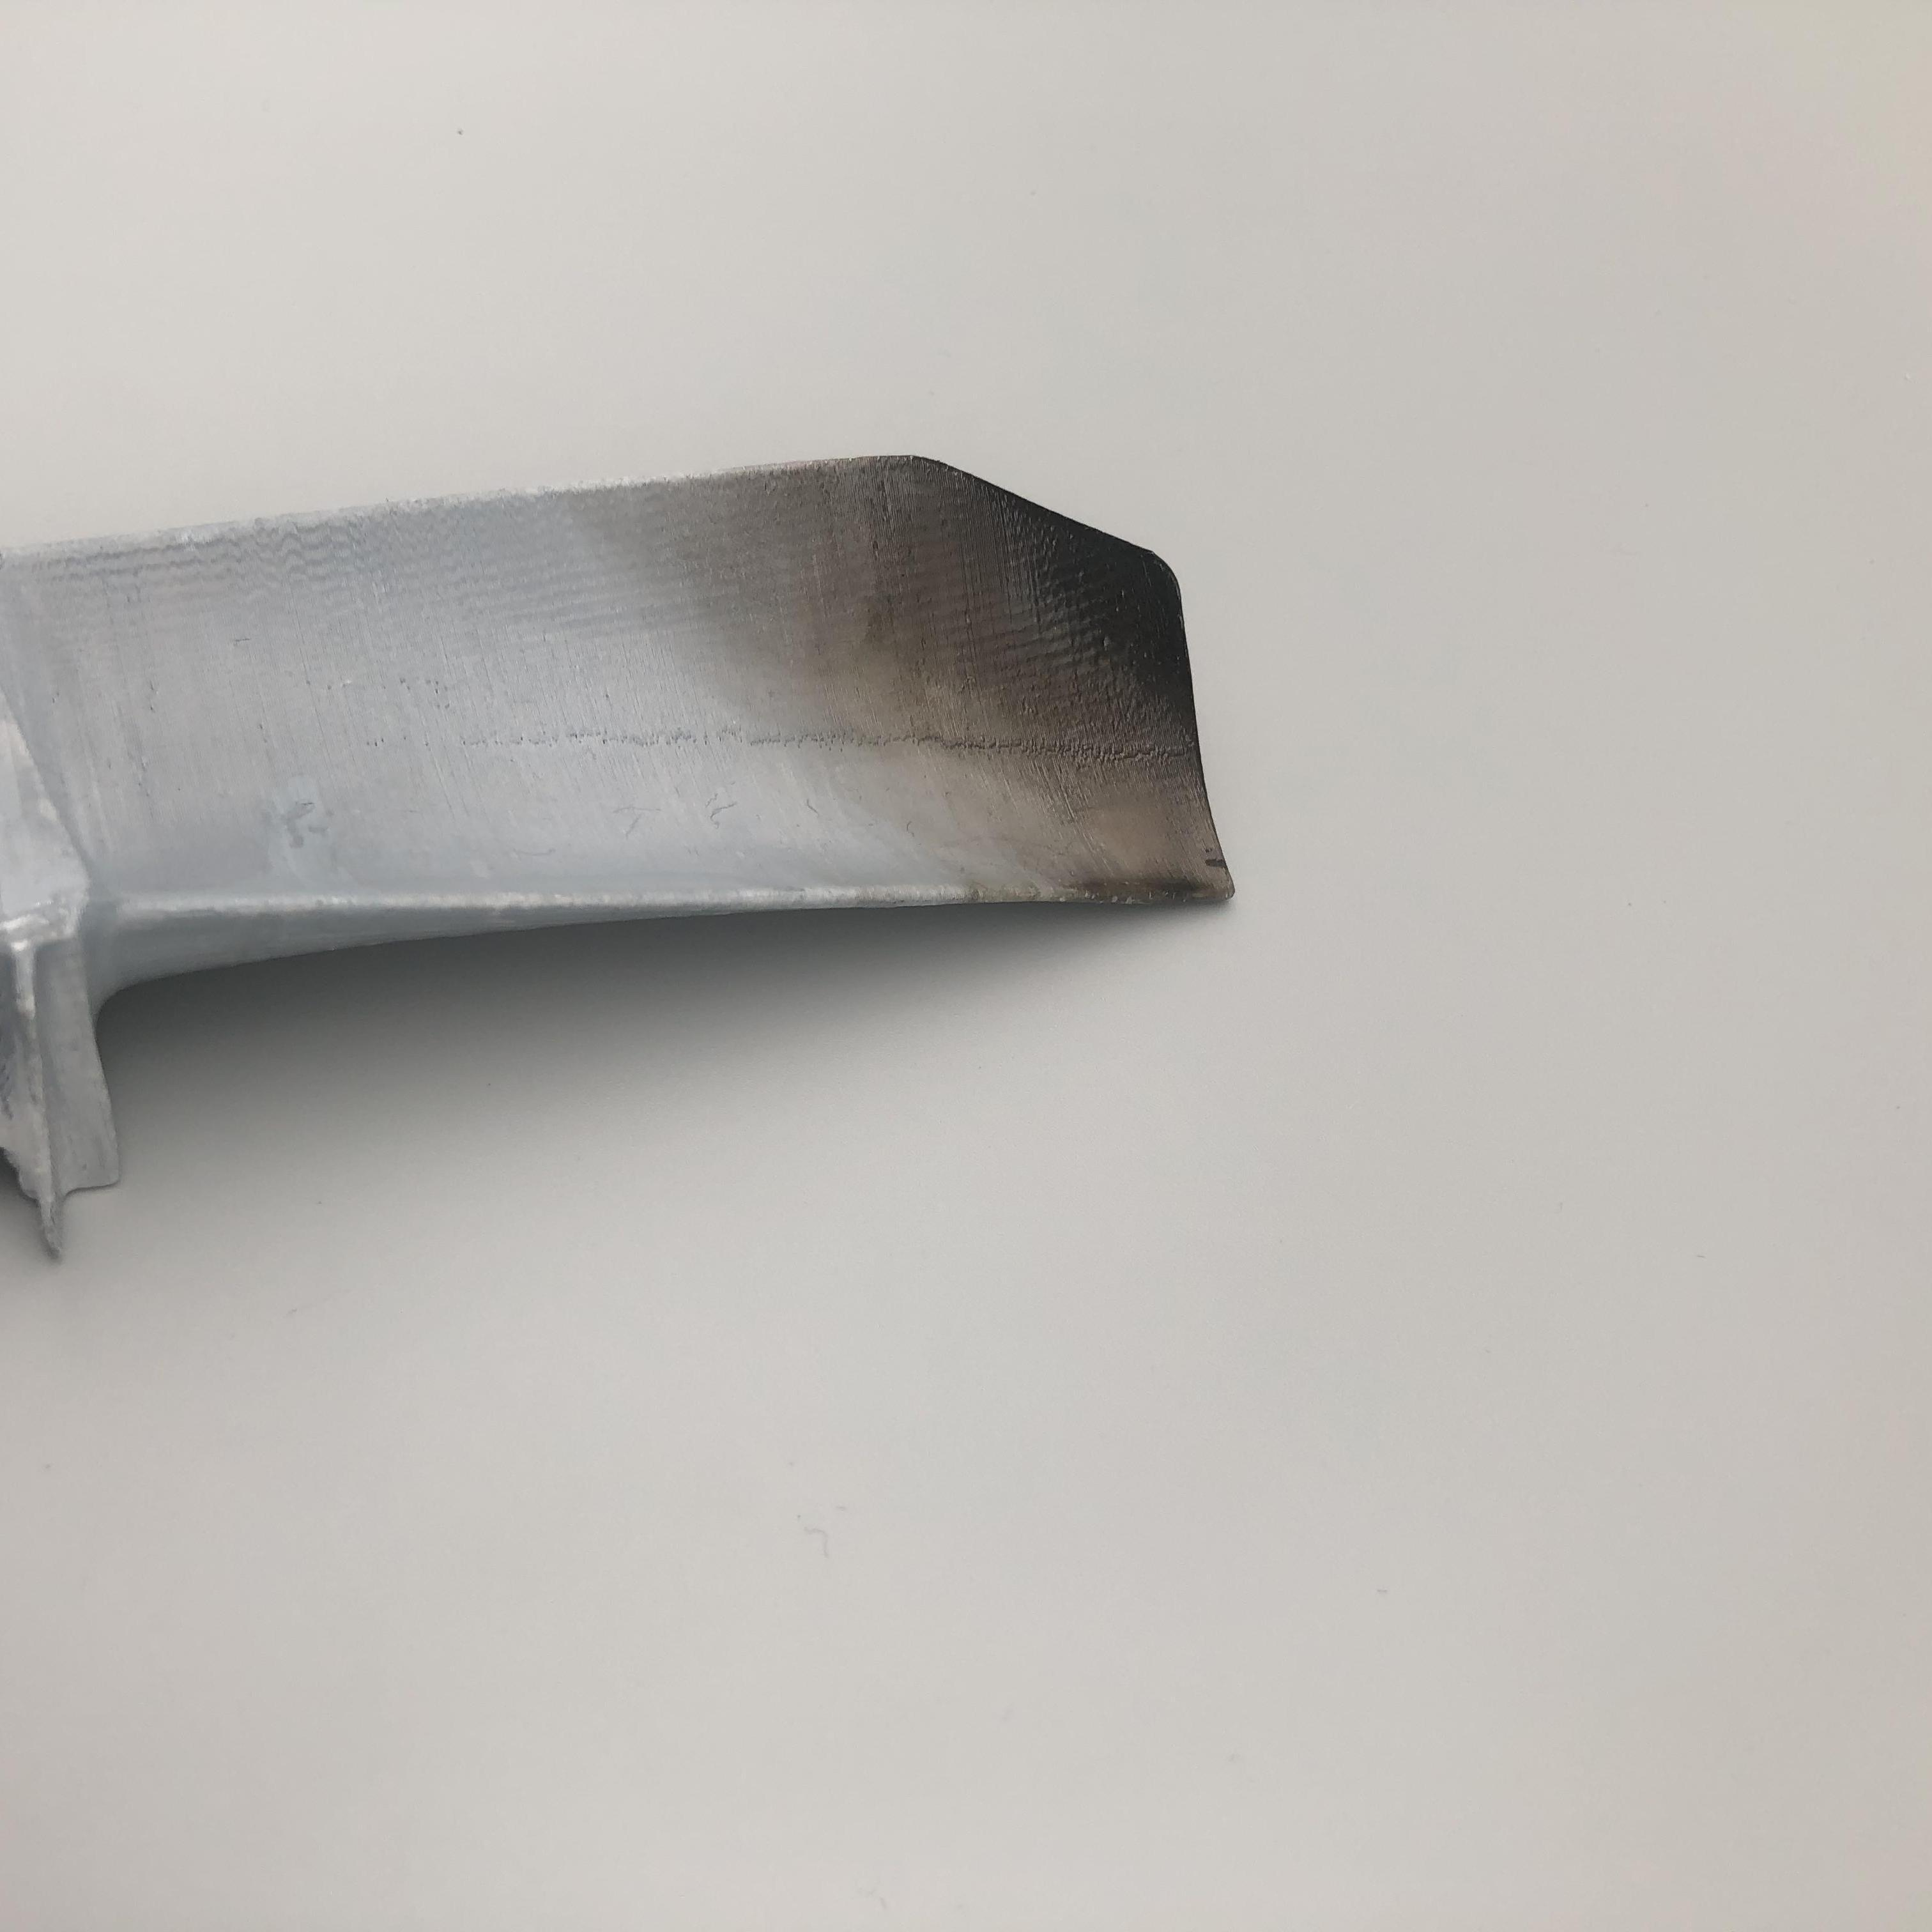ablation: (821, 455, 1233, 878)
